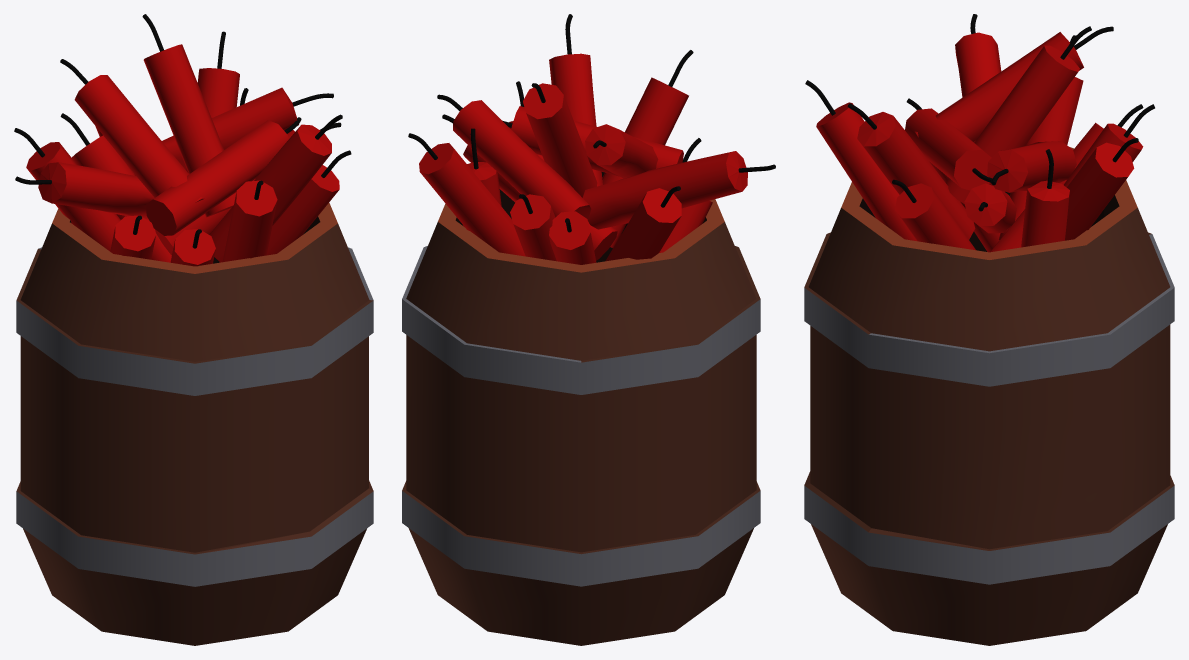
File: beczka z dynamitem.FBX
The picture shows the model from 3 angles, left to right: view 1: azimuth 30°, elevation 25°; view 2: azimuth 150°, elevation 25°; view 3: azimuth 270°, elevation 25°; orthographic projection. The views are drawn at different scales.
Visible parts, largest first — view 1: Cylinder002, Cylinder018, Cylinder015, Cylinder017, Cylinder009, Cylinder004, Cylinder010, Cylinder016, Cylinder011, Cylinder012, Cylinder013, Cylinder014 (+3 smaller); view 2: Cylinder002, Cylinder009, Cylinder016, Cylinder014, Cylinder017, Cylinder012, Cylinder010, Cylinder004, Cylinder015, Cylinder008, Cylinder013, Cylinder018 (+3 smaller); view 3: Cylinder002, Cylinder017, Cylinder004, Cylinder010, Cylinder018, Cylinder014, Cylinder015, Cylinder016, Cylinder011, Cylinder003, Cylinder009, Cylinder012 (+4 smaller).
Part boxes in pixels (box(x1,y1,x2,y2)): Cylinder002: box(16, 202, 373, 645); Cylinder018: box(146, 117, 301, 235); Cylinder015: box(60, 59, 204, 202); Cylinder017: box(142, 14, 236, 217); Cylinder009: box(15, 162, 154, 219); Cylinder004: box(209, 114, 342, 262); Cylinder010: box(222, 180, 277, 261); Cylinder016: box(134, 87, 333, 175); Cylinder011: box(266, 150, 351, 255); Cylinder012: box(14, 128, 120, 251); Cylinder013: box(60, 113, 171, 262); Cylinder014: box(197, 31, 239, 117); Cylinder002: box(402, 172, 760, 645); Cylinder009: box(582, 151, 775, 229); Cylinder016: box(437, 94, 591, 219); Cylinder014: box(408, 133, 525, 256); Cylinder017: box(523, 83, 597, 197); Cylinder012: box(605, 186, 681, 261); Cylinder010: box(602, 50, 693, 247); Cylinder004: box(549, 14, 602, 186); Cylinder015: box(585, 124, 658, 178); Cylinder008: box(510, 194, 556, 261); Cylinder013: box(549, 211, 596, 264); Cylinder018: box(502, 106, 683, 176); Cylinder002: box(804, 147, 1174, 645); Cylinder017: box(945, 26, 1091, 204); Cylinder004: box(847, 103, 975, 239); Cylinder010: box(805, 80, 916, 240); Cylinder018: box(905, 108, 992, 190); Cylinder014: box(1065, 138, 1138, 240); Cylinder015: box(915, 26, 1113, 141); Cylinder016: box(987, 141, 1076, 192); Cylinder011: box(892, 179, 975, 250); Cylinder003: box(1021, 149, 1069, 247); Cylinder009: box(955, 14, 1001, 142); Cylinder012: box(999, 35, 1083, 240).
Bounding box in the file's own units: 18.92 × 28.16 × 17.04.
